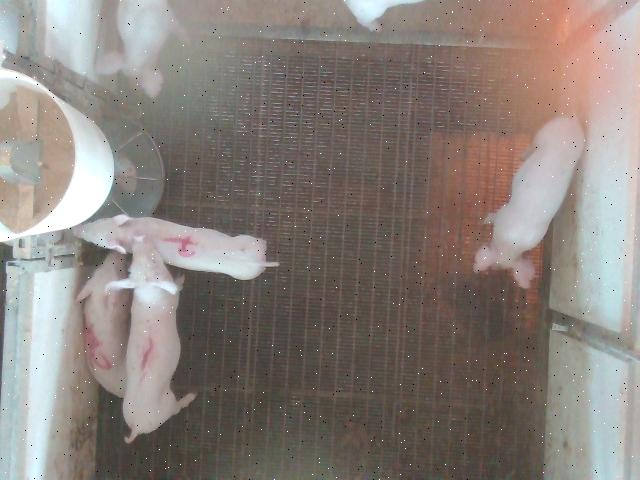pig-1: (106, 236, 195, 442)
pig-4: (75, 216, 276, 280)
pig-5: (76, 251, 132, 398)
